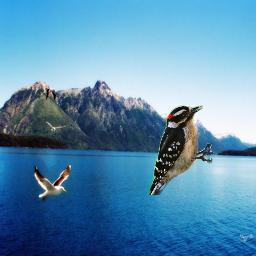Woodpecker: (149, 105, 214, 195)
